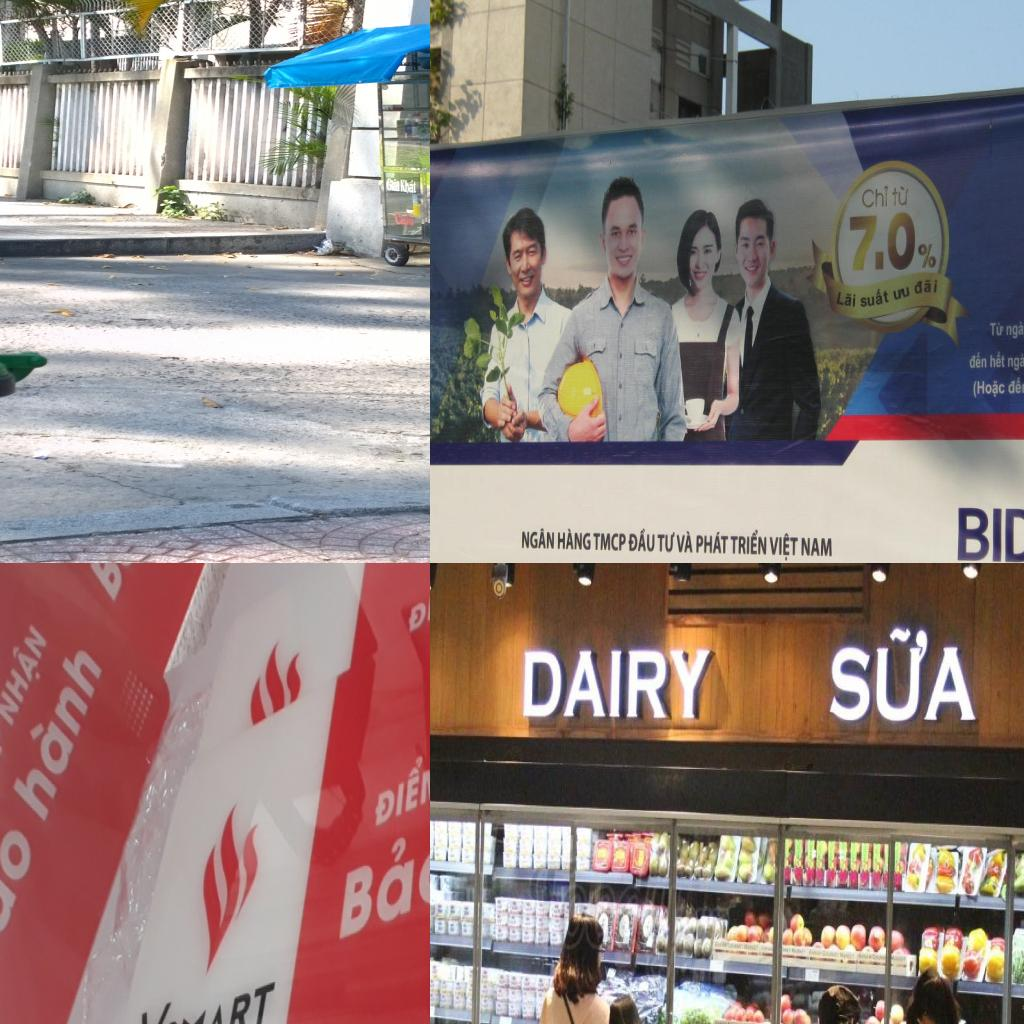text: (2, 624, 107, 832), (522, 649, 712, 720), (344, 813, 430, 908), (0, 801, 39, 1002), (130, 973, 281, 1024), (0, 611, 56, 737), (370, 738, 430, 832), (84, 563, 153, 615), (847, 212, 881, 275), (886, 207, 918, 272), (406, 563, 430, 637), (0, 706, 11, 809), (730, 528, 768, 556), (693, 528, 729, 556), (767, 532, 800, 562), (520, 526, 556, 553), (557, 526, 592, 552), (861, 182, 890, 211), (593, 528, 627, 552), (799, 534, 833, 558), (860, 286, 891, 310), (628, 527, 656, 553), (917, 240, 939, 272), (971, 379, 1005, 399), (833, 286, 858, 311), (892, 184, 912, 209), (914, 276, 939, 296), (658, 529, 676, 555), (676, 528, 694, 552), (1006, 319, 1024, 339), (968, 352, 988, 370), (892, 284, 911, 302), (1007, 352, 1024, 372), (393, 212, 416, 226), (989, 351, 1006, 369), (1008, 375, 1024, 394), (989, 320, 1005, 338), (400, 179, 417, 195), (873, 249, 885, 271), (386, 178, 393, 191)
